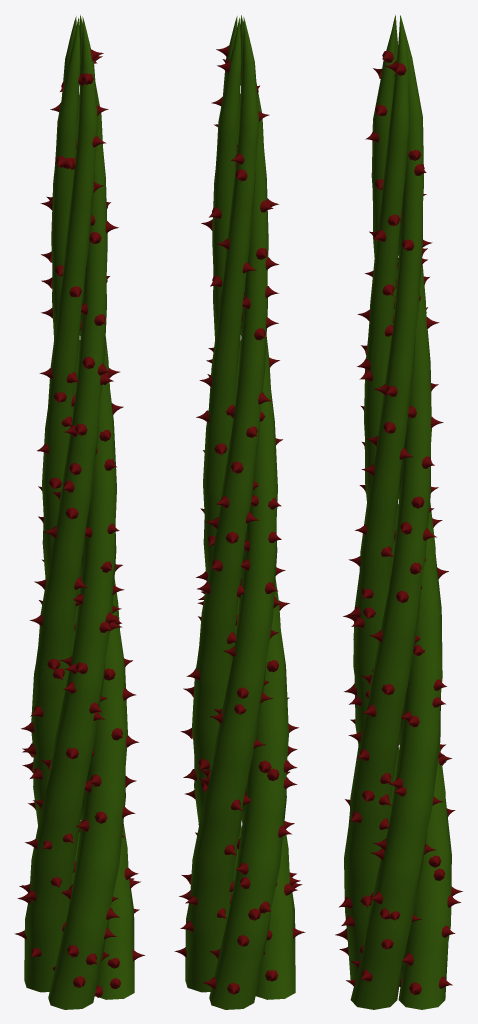
File: AudreyII-Tentacle.fbx
3 views of the same model, side by side, from view 1: azimuth 30°, elevation 25°; view 2: azimuth 210°, elevation 25°; view 3: azimuth 270°, elevation 25° (orthographic).
Parts seen in each view (by area): view 1: BraidVine; view 2: BraidVine; view 3: BraidVine.
Boxes of the visible parts, left/top/right/bottom form: BraidVine: left=14, top=15, right=144, bottom=1009; BraidVine: left=174, top=15, right=305, bottom=1009; BraidVine: left=335, top=15, right=462, bottom=1009.
Size of the model in its own units: 245 by 2056 by 246.
1 material, 1 textured.
